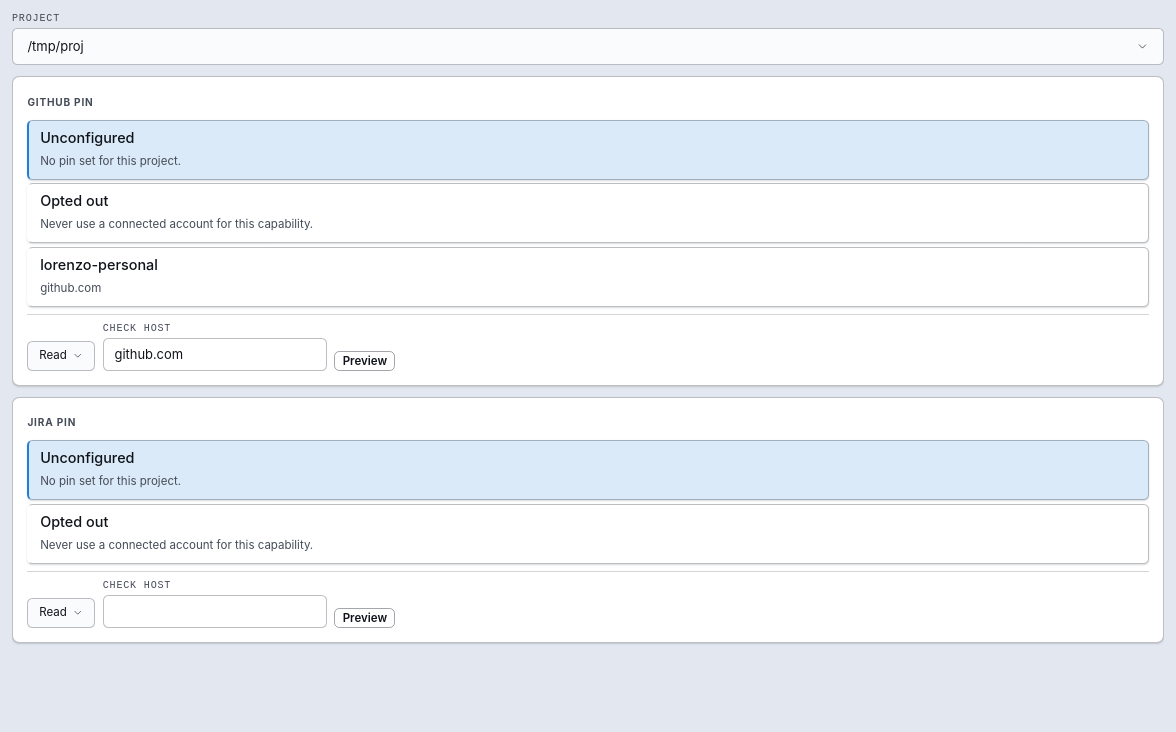
Test: AccountPinPicker resolution preview — five distinct error states (issue #230 acceptance) › resolved renders the winning account
Click the button with test id "account-pin-preview-run-github" at x=365, y=361, box [334,351,395,371]
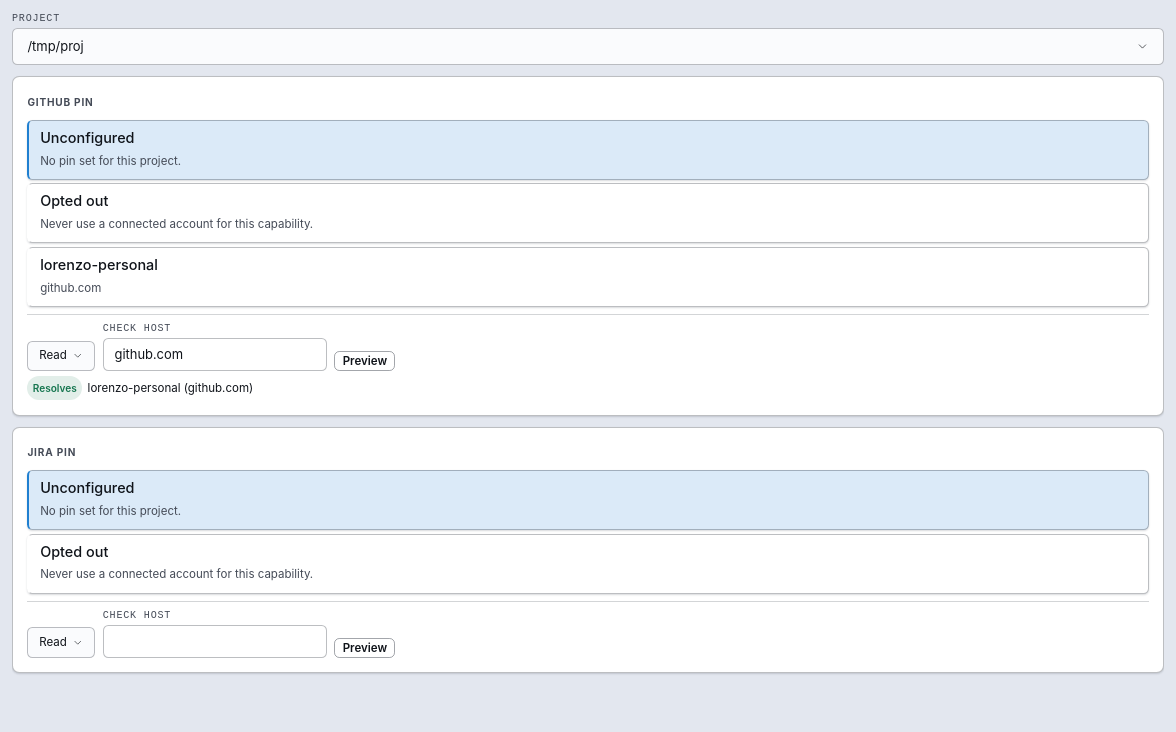
Check: the element with test id "account-pin-preview-github" is shown, box [27,314,1149,400]
Check: the element with test id "account-pin-preview-resolved-github" shows "lorenzo-personal", box [88,381,253,395]
